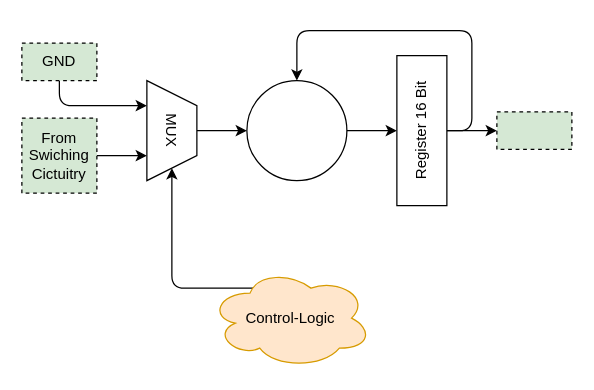
The diagram is 594 pixels wide and 390 high, and some of its shapes have lost their labels. Each missing label, with the centre of its shape:
ADDER: the point at 296,130
To RAM: the point at 534,130
